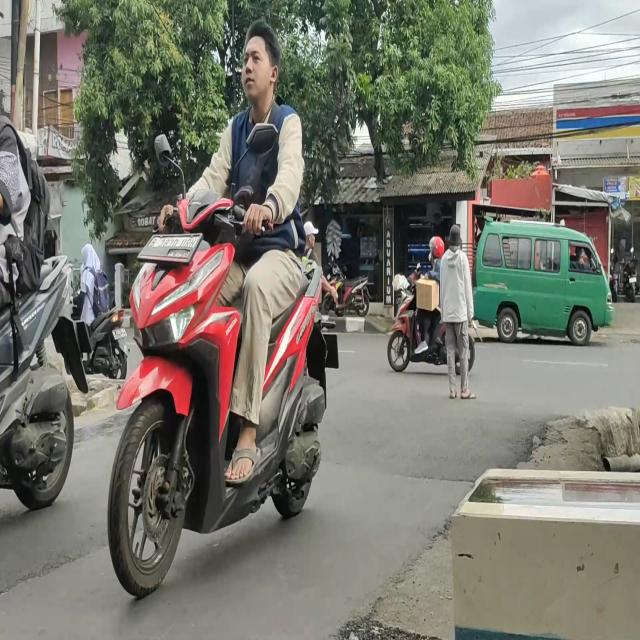helmet: (428, 236, 443, 262)
no-helmet: (240, 30, 282, 101), (81, 241, 100, 273)
